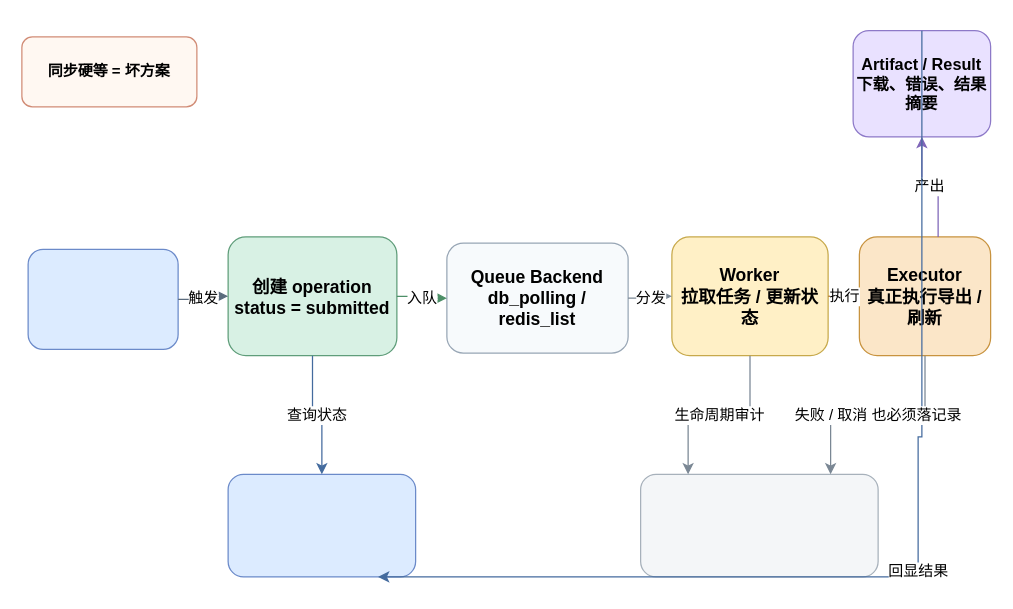
This 1013x609 diagram has some shape labels left out. Each missing label, with the box of its shape:
业务动作 导出 / refresh / batch: (27, 248, 178, 349)
前端轮询 / 订阅 读取 status / artifact: (227, 473, 416, 577)
审计 submitted / started / succeeded / failed / cancelled: (639, 473, 878, 577)
